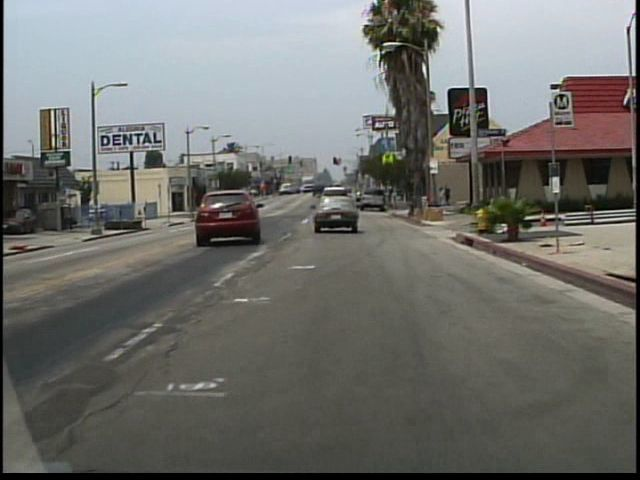person: (444, 183, 452, 207), (439, 185, 446, 208)
